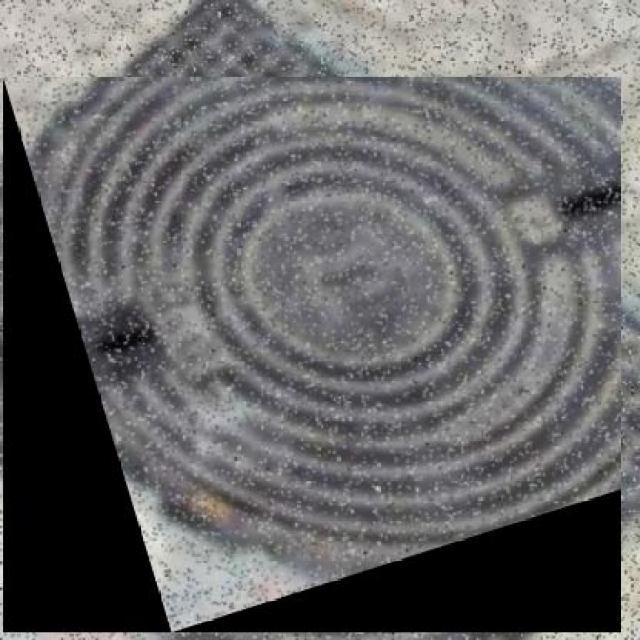Manhole: (3, 77, 620, 632)
